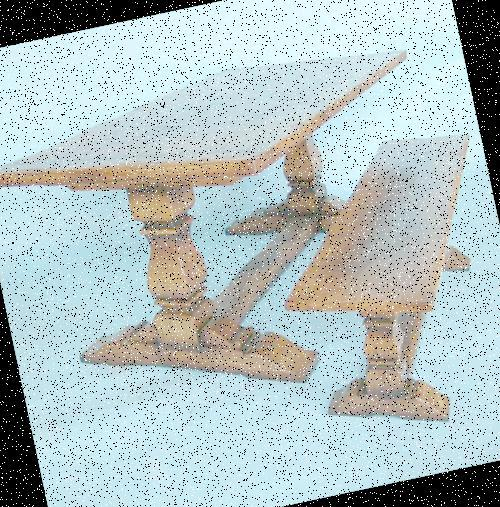Mesa: (0, 36, 471, 437)
Silla: (257, 118, 499, 445)
